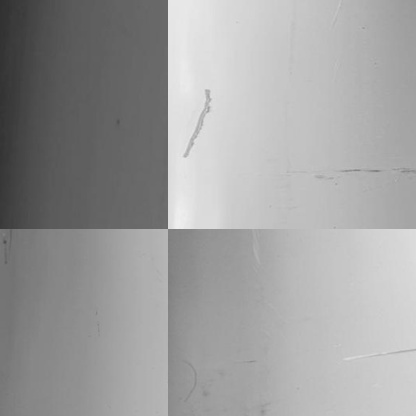sunshang: (183, 86, 216, 168), (343, 344, 413, 362)
